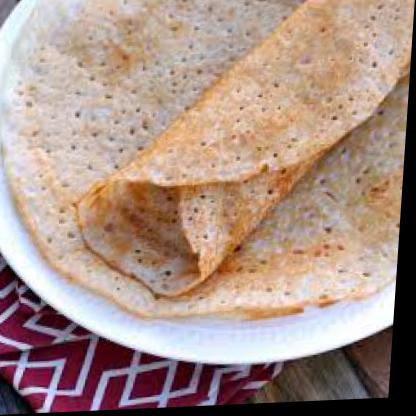dosa: (0, 0, 416, 332), (75, 0, 416, 301)
